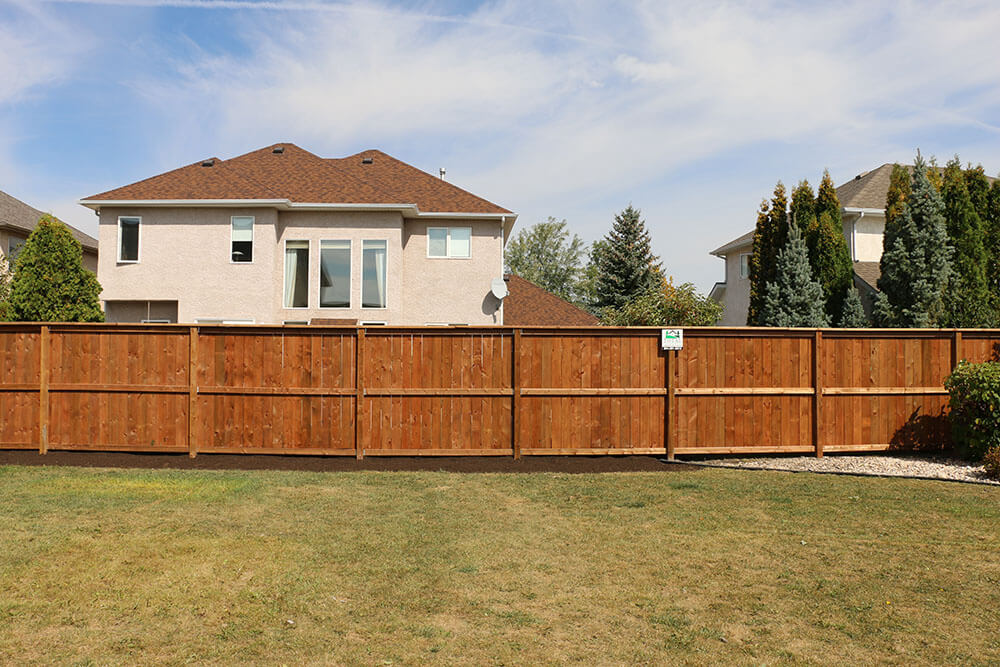Arbol: (889, 172, 1000, 325), (750, 191, 869, 325), (4, 215, 103, 324), (593, 213, 690, 322)
Muro: (94, 153, 511, 326)
Valla: (4, 319, 1000, 456)
